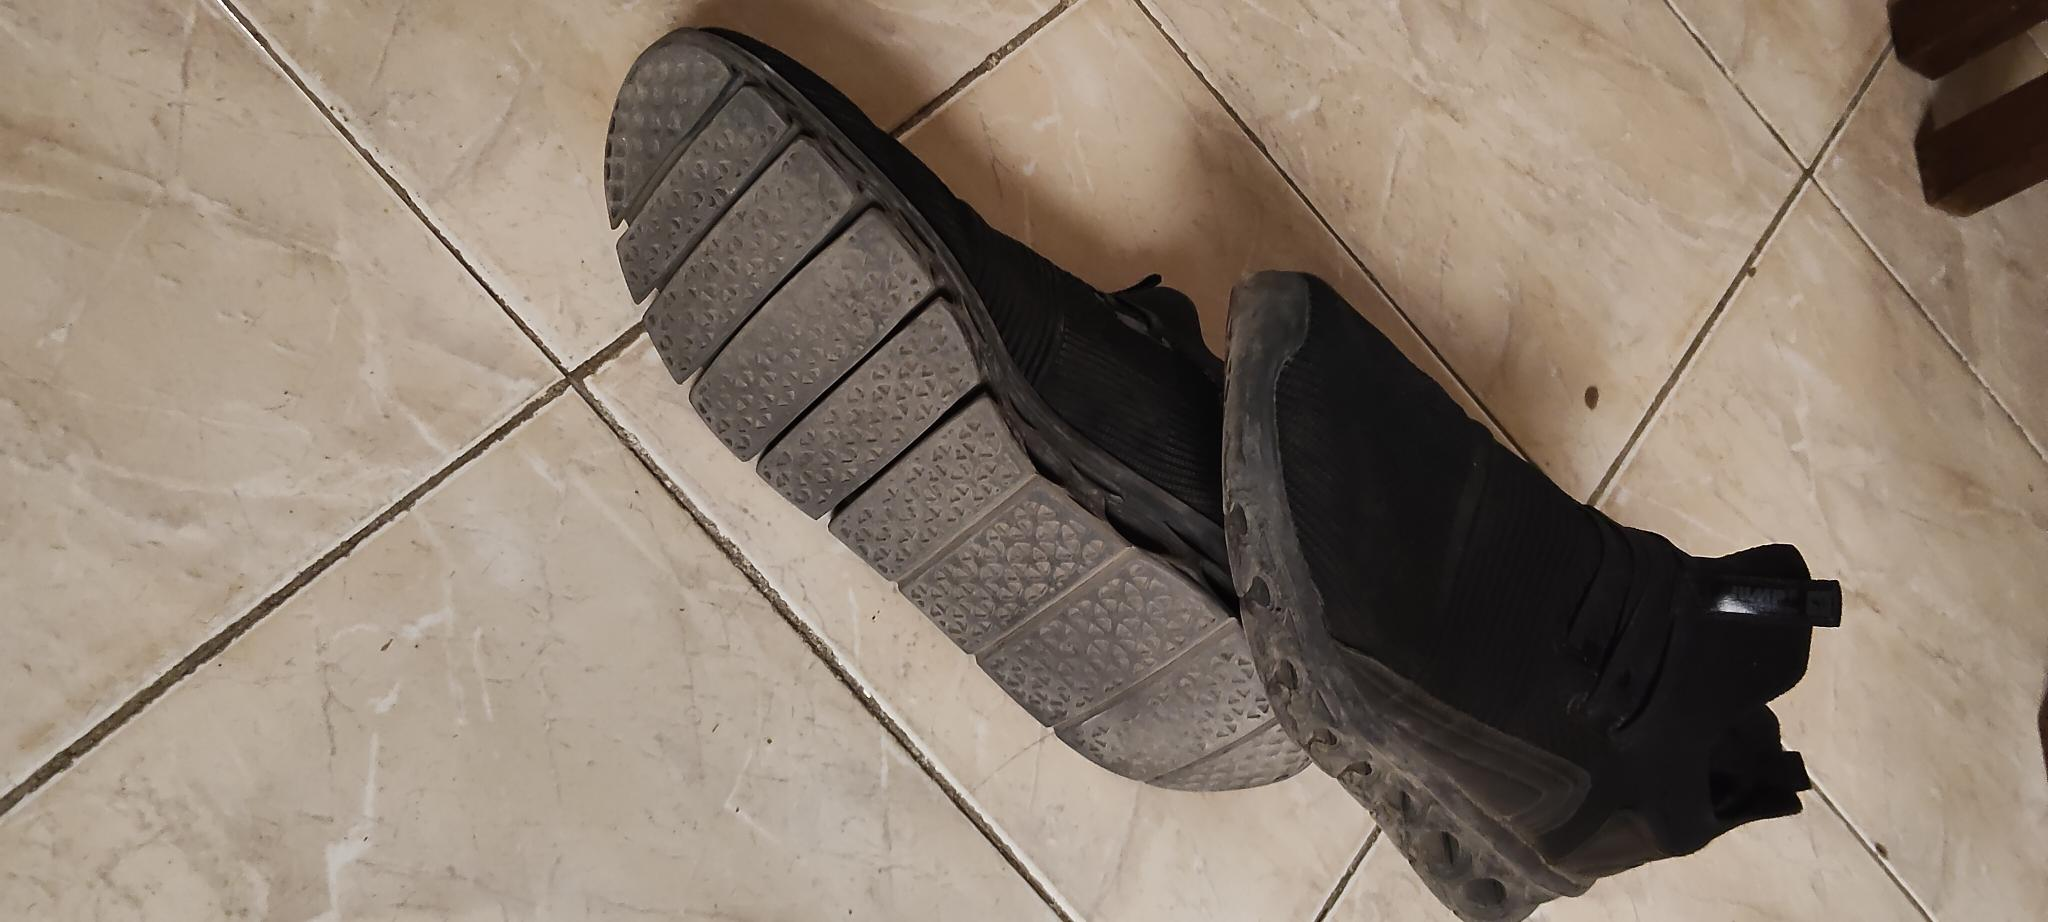Shoes: (605, 19, 1318, 791), (1218, 271, 1845, 921)
